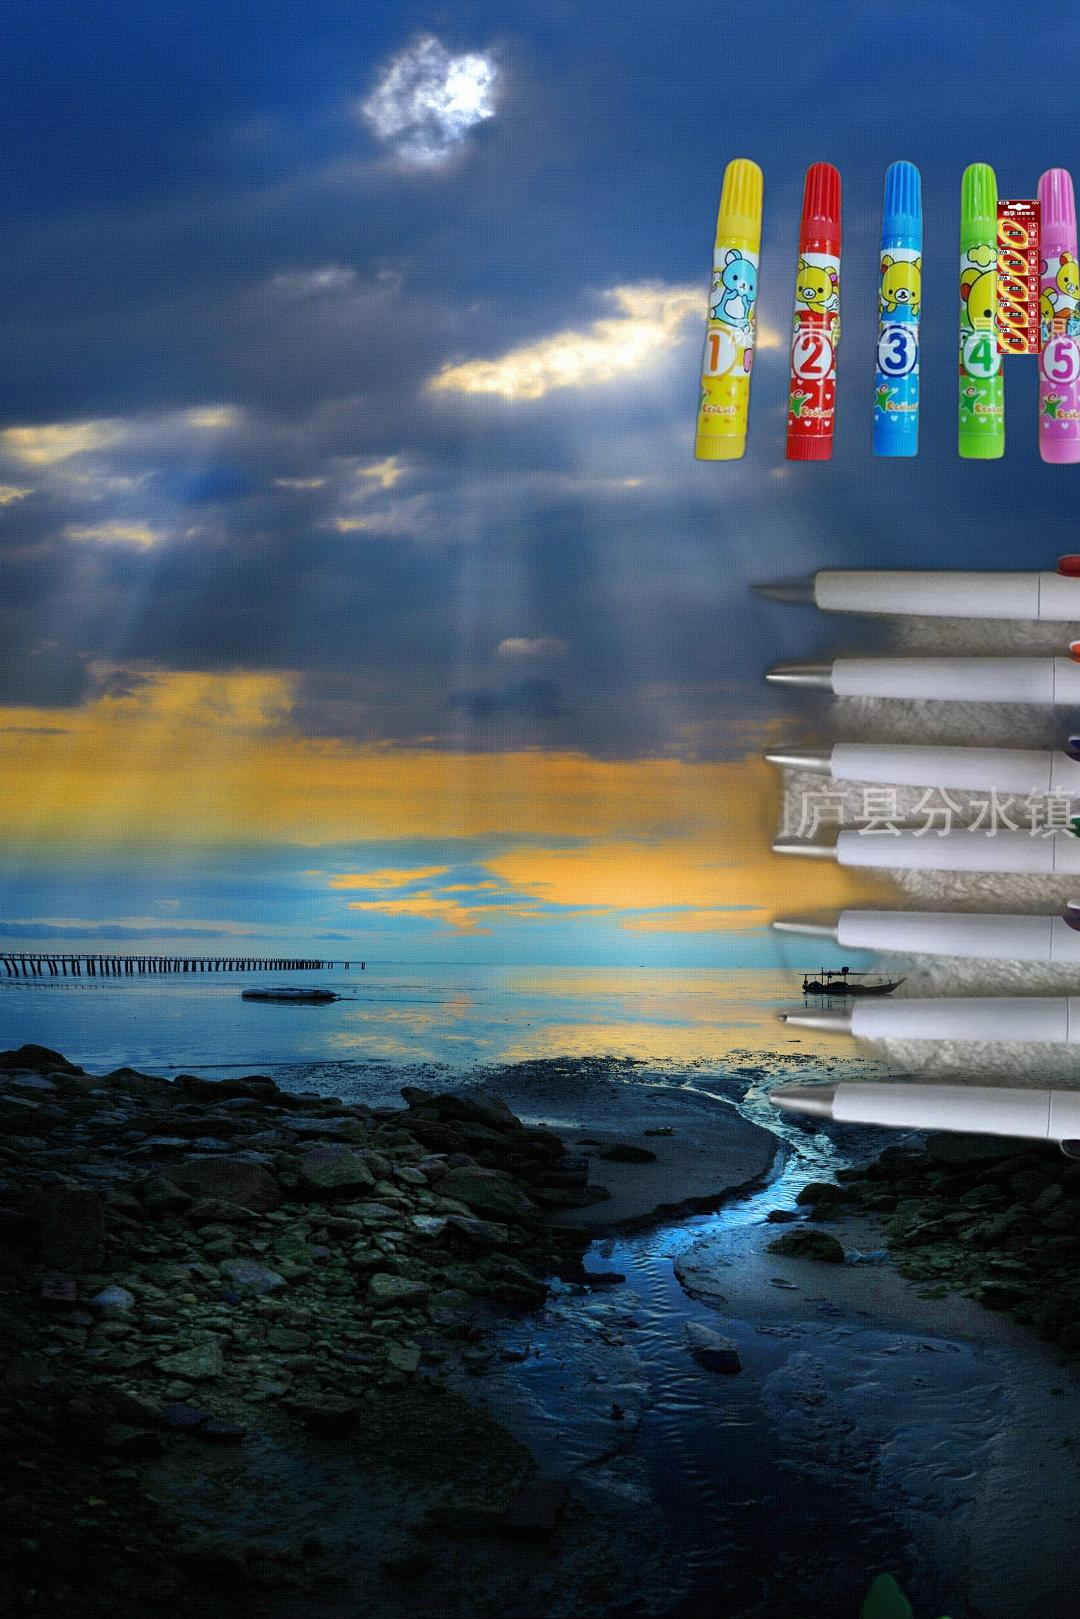battery: (994, 196, 1044, 356)
penholder: (730, 544, 1080, 1304), (691, 153, 1080, 470)
trashbox-cardboard: (597, 1564, 1080, 1619)
